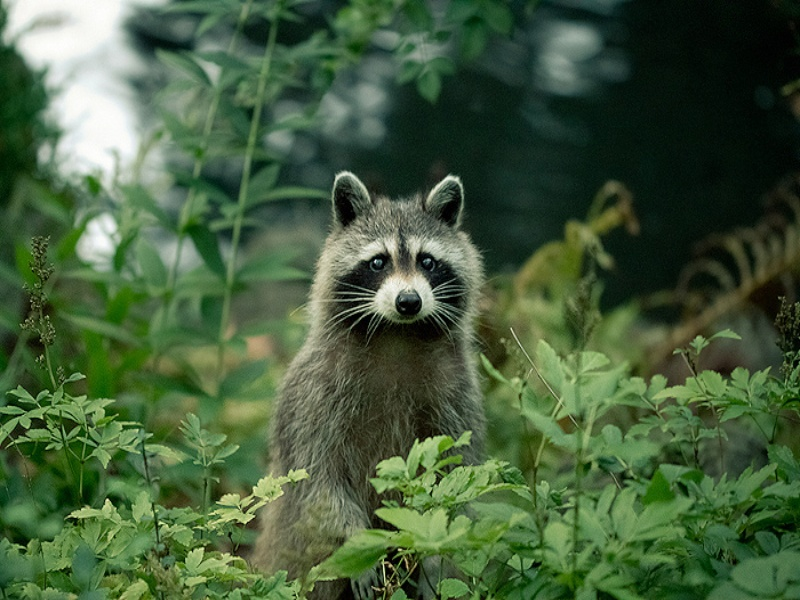raccoon: (245, 165, 508, 600)
